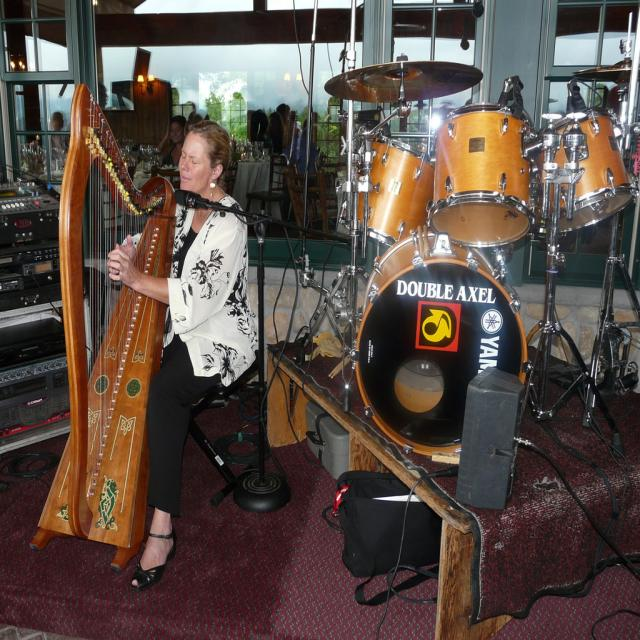drums: (316, 60, 636, 453)
harp: (24, 79, 180, 558)
